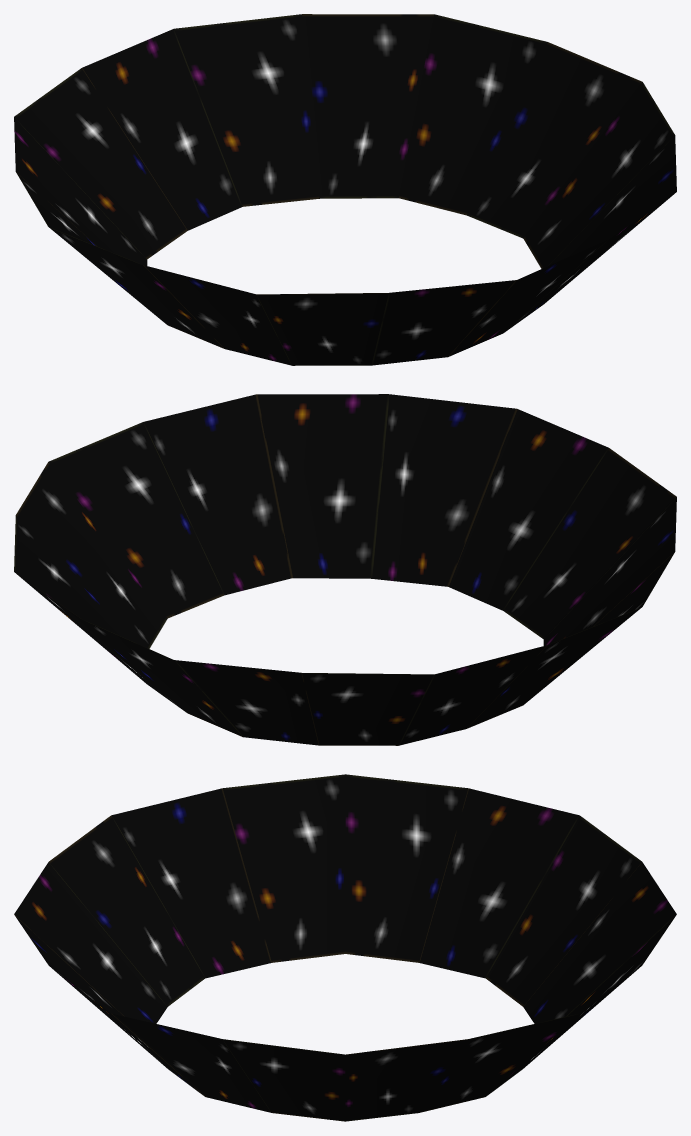
The picture shows the model from 3 angles, top to bottom: view 1: azimuth 30°, elevation 25°; view 2: azimuth 150°, elevation 25°; view 3: azimuth 270°, elevation 25°; orthographic projection. The views are drawn at different scales.
Parts seen in each view (by area): view 1: T1L6M003_12; view 2: T1L6M003_12; view 3: T1L6M003_12.
Boxes of the visible parts, x1=… form: T1L6M003_12: x1=14, y1=14, x2=676, y2=365; T1L6M003_12: x1=14, y1=394, x2=676, y2=745; T1L6M003_12: x1=14, y1=774, x2=676, y2=1121.
Size of the model in its own units: 2.87 by 0.5947 by 2.87.
Materials: 1 (1 with a texture image).
